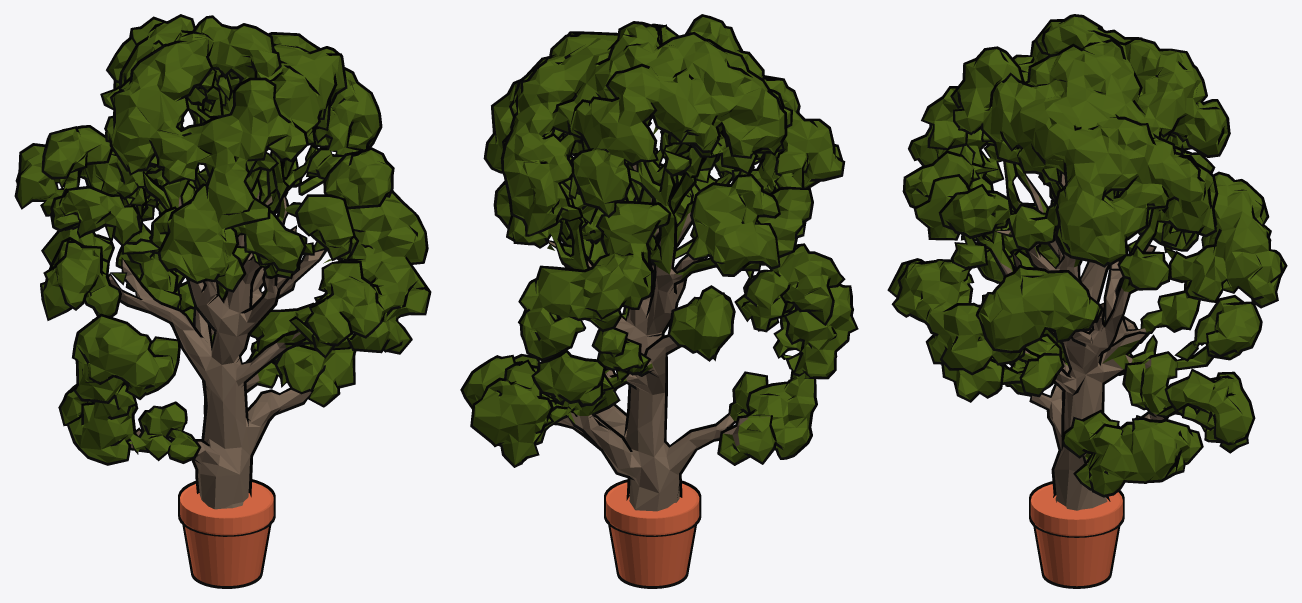
The model's file is plante_1.glb.
3 views of the same model, side by side, from view 1: azimuth 30°, elevation 25°; view 2: azimuth 150°, elevation 25°; view 3: azimuth 270°, elevation 25° (orthographic). The views are drawn at different scales.
Parts seen in each view (by area): view 1: Cylinder; view 2: Cylinder; view 3: Cylinder.
Part boxes in pixels (box(x1,y1,x2,y2)): Cylinder: box(14, 14, 431, 588); Cylinder: box(460, 14, 858, 588); Cylinder: box(887, 14, 1287, 588).
Size of the model in its own units: 1.33 by 2.01 by 1.36.
